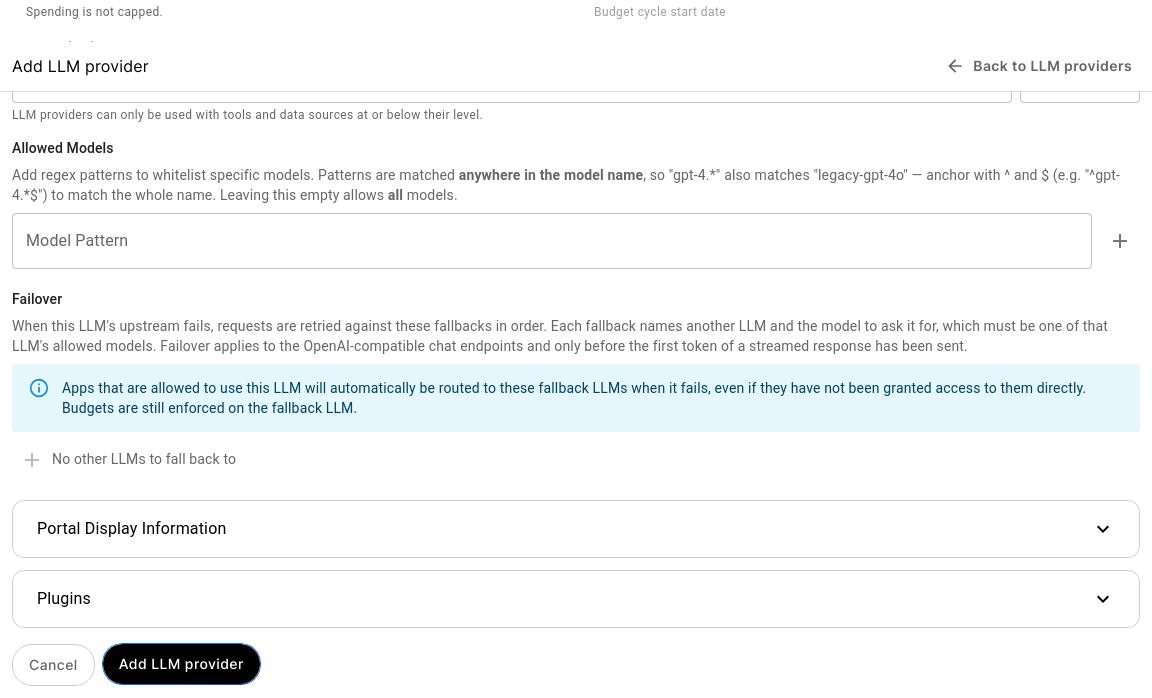
Scenario: LLMForm validation and layout › shows Access Details expanded with the credential hint, and labels the live switch Active
The width and height of the screenshot is (1152, 698).
(page scrolled)
Expected: the button "Add LLM provider" is shown, left=103, top=644, right=260, bottom=684
# The switch lives in the collapsed Portal Display accordion.
Click the button "Portal Display Information": (132, 528) left=13, top=501, right=1139, bottom=557
(page scrolled)
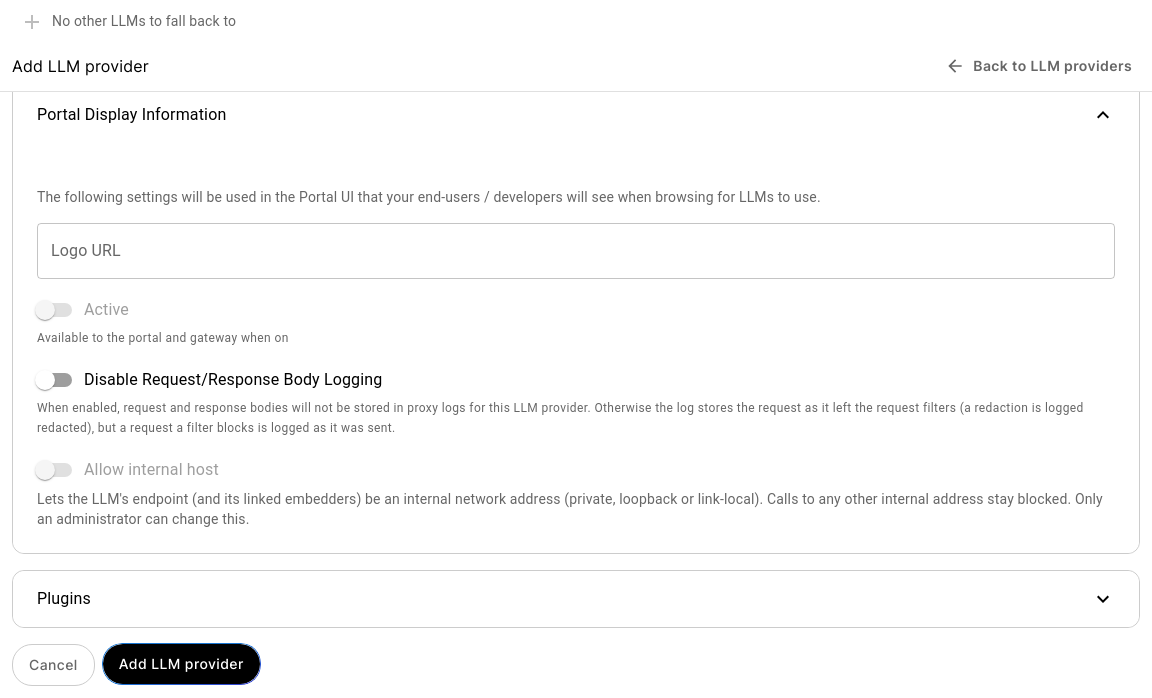
Result: the checkbox labelled "Active" is shown at left=35, top=300, right=129, bottom=320
Result: the text "Available to the portal and gateway when on" is shown at left=37, top=331, right=289, bottom=345
